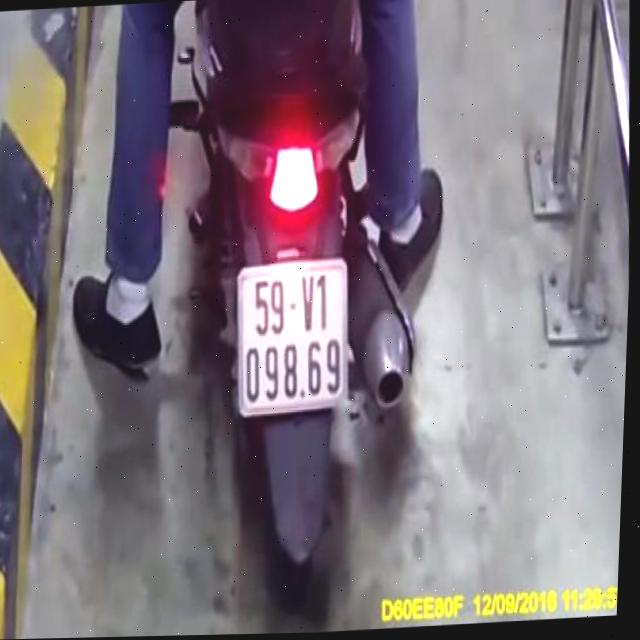motorcycle: (147, 0, 444, 624)
plate: (228, 257, 356, 416)
